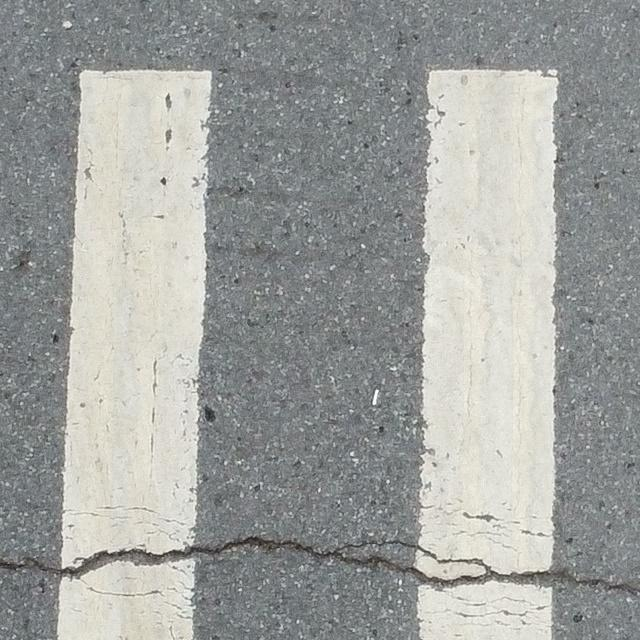TransverseCrack: (1, 534, 640, 597)
